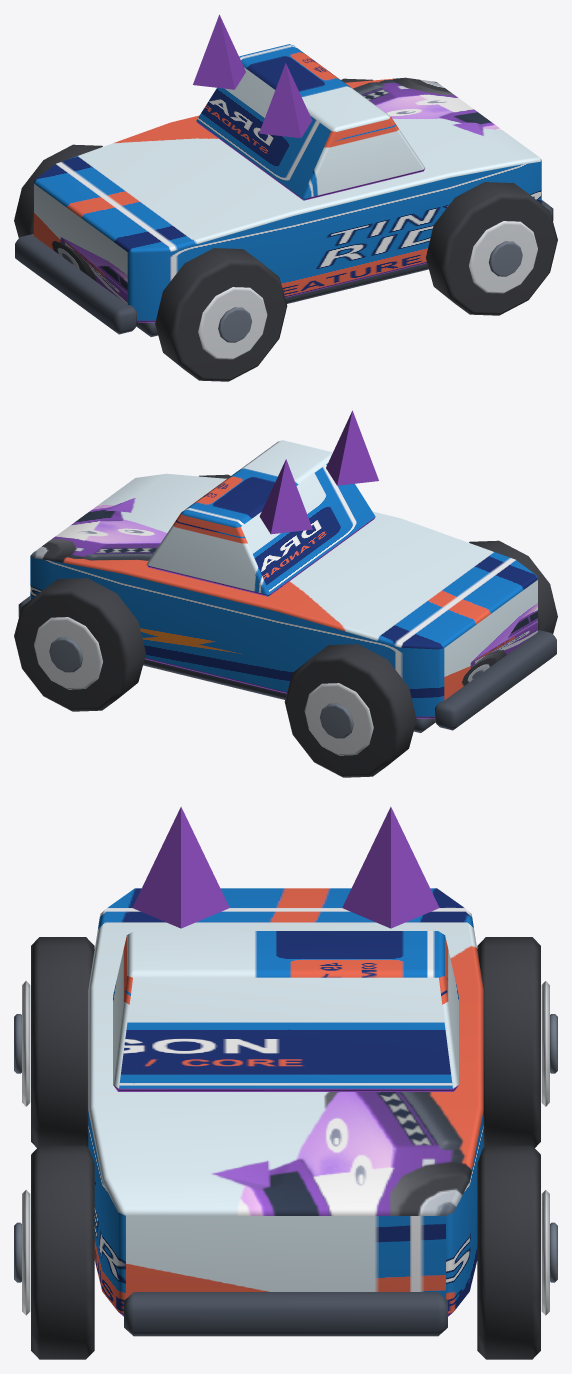
3 renders of one model, top to bottom at view 1: azimuth 30°, elevation 25°; view 2: azimuth 150°, elevation 25°; view 3: azimuth 270°, elevation 25°, orthographic. The views are drawn at different scales.
Parts seen in each view (by area): view 1: CR-05_connected_shell, CR-05_cabin, Tire.002, Tire, front bumper, Rim, Rim.002, horn.001, horn, Tire.001, underbody, Hub (+1 smaller); view 2: CR-05_connected_shell, CR-05_cabin, Tire.003, Tire.001, front bumper, Rim.001, Rim.003, horn, horn.001, Tire, underbody, Hub.001 (+1 smaller); view 3: CR-05_connected_shell, CR-05_cabin, rear bumper, Tire.002, Tire.003, Tire, Tire.001, horn, horn.001, Rim, Rim.001, Rim.002 (+1 smaller).
Part boxes in pixels (x1,y1,x2,y2): CR-05_connected_shell: [34, 77, 541, 322]; CR-05_cabin: [196, 44, 424, 200]; Tire.002: [426, 182, 557, 315]; Tire: [155, 248, 287, 381]; front bumper: [15, 234, 137, 334]; Rim: [198, 287, 267, 359]; Rim.002: [469, 221, 537, 293]; horn.001: [193, 14, 245, 89]; horn: [259, 63, 312, 138]; Tire.001: [14, 144, 102, 237]; underbody: [136, 263, 428, 336]; Hub: [218, 307, 251, 342]; CR-05_connected_shell: [30, 473, 537, 718]; CR-05_cabin: [147, 440, 375, 596]; Tire.003: [14, 578, 145, 711]; Tire.001: [284, 644, 416, 777]; front bumper: [434, 630, 556, 730]; Rim.001: [304, 683, 373, 755]; Rim.003: [34, 617, 102, 689]; horn: [326, 410, 378, 485]; horn.001: [259, 459, 312, 534]; Tire: [469, 540, 557, 633]; underbody: [143, 659, 435, 732]; Hub.001: [320, 703, 353, 738]; CR-05_connected_shell: [88, 888, 483, 1316]; CR-05_cabin: [113, 931, 458, 1091]; rear bumper: [124, 1292, 447, 1336]; Tire.002: [31, 1145, 94, 1359]; Tire.003: [477, 1145, 540, 1359]; Tire: [31, 937, 94, 1147]; Tire.001: [477, 937, 540, 1147]; horn: [132, 806, 229, 928]; horn.001: [342, 806, 439, 928]; Rim: [22, 981, 30, 1106]; Rim.001: [541, 981, 549, 1106]; Rim.002: [22, 1190, 30, 1315].
Size of the model in its own units: 330 by 187 by 223.
